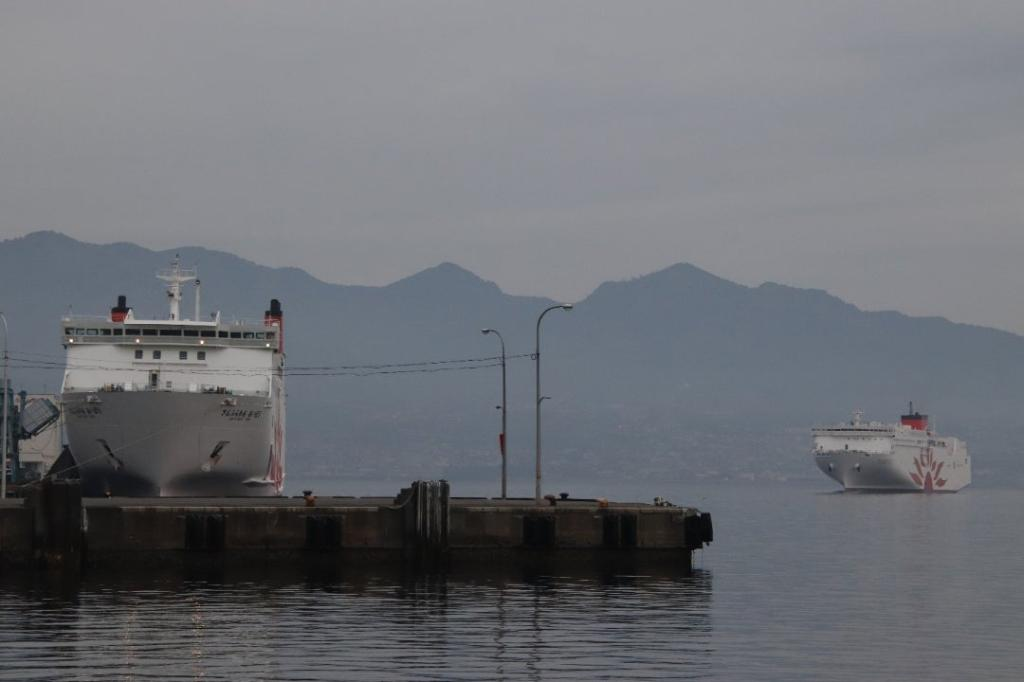PassengerShip: (48, 262, 288, 500), (812, 396, 978, 502)
